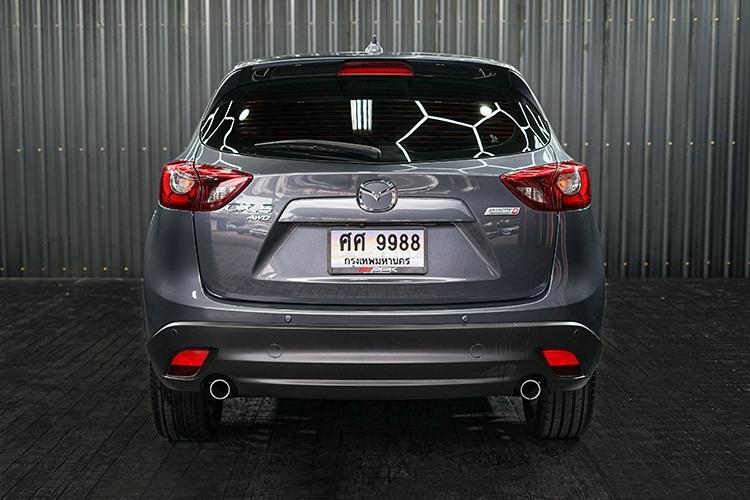license-plate: (330, 227, 427, 274)
